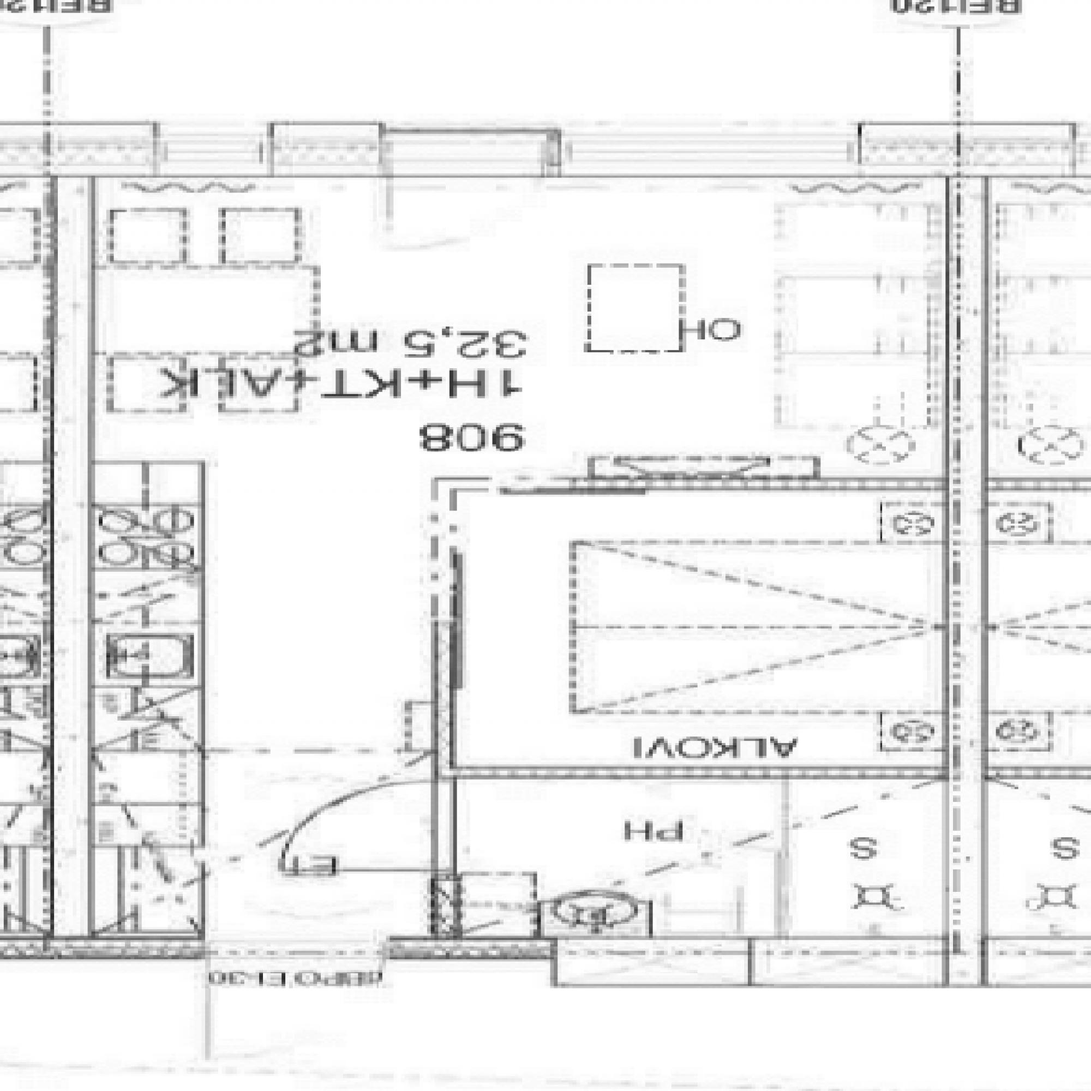wall: (52, 131, 985, 176), (945, 130, 985, 985), (52, 131, 91, 957), (556, 937, 985, 986), (52, 937, 556, 957), (435, 476, 985, 492), (434, 476, 452, 957), (435, 768, 985, 781), (780, 768, 798, 986)
